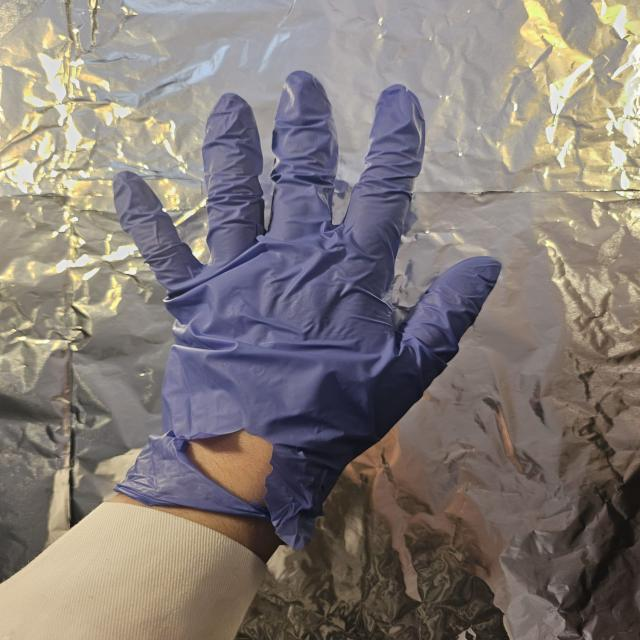gloves_damaged: (109, 70, 504, 551)
